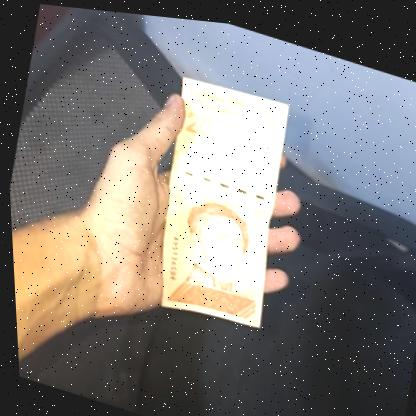twenty-front-vef: (130, 63, 305, 334)
